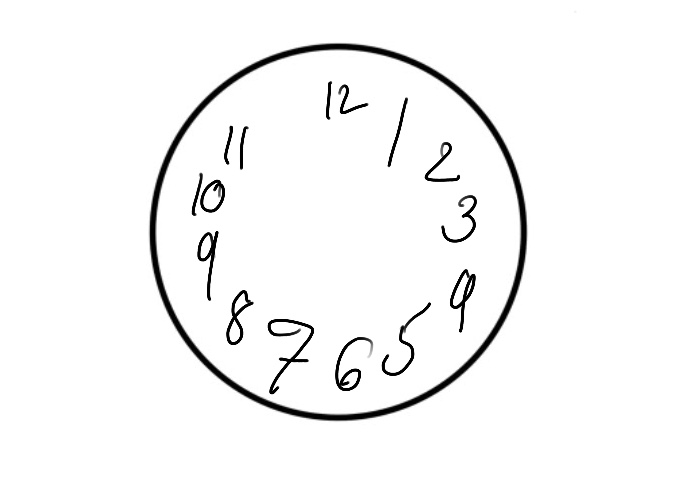eight: (226, 286, 254, 349)
eleven: (222, 120, 247, 169)
five: (382, 304, 430, 375)
four: (448, 263, 476, 337)
nine: (194, 225, 219, 306)
one: (385, 94, 409, 173)
seven: (263, 312, 318, 396)
six: (330, 333, 375, 394)
ten: (189, 169, 227, 218)
three: (437, 190, 481, 243)
twelve: (323, 73, 370, 120)
two: (422, 137, 463, 185)
